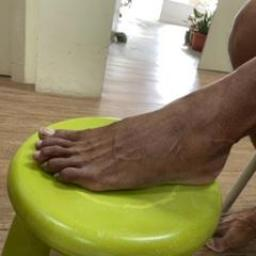Lateral View -Left Foot-: (15, 83, 246, 210)
